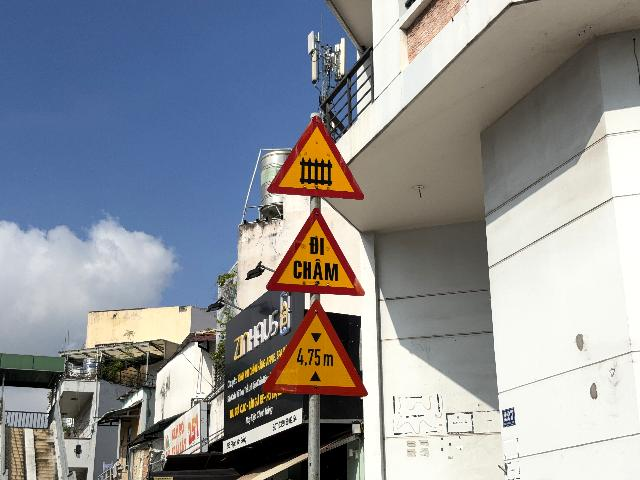chieu-cao-tinh-khong-thuc-te: (261, 299, 368, 396)
di-cham: (266, 208, 365, 296)
noi-giao-nhau-voi-duong-sat-co-rao-chan: (267, 114, 364, 200)
